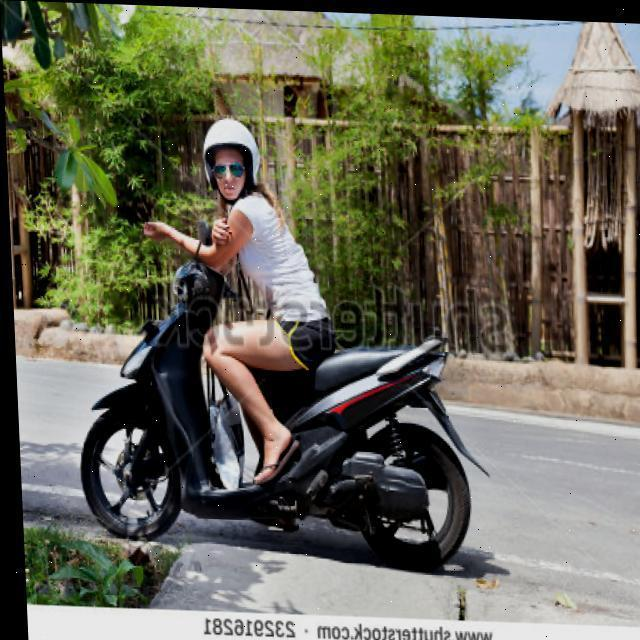Helmet: (195, 109, 267, 204)
